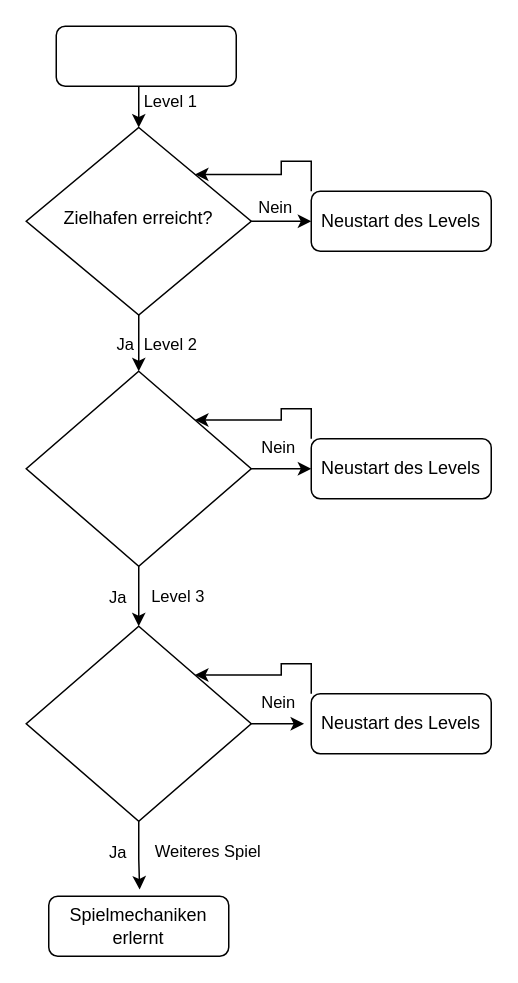
Image size: 518x983. Some labels were removed from this diagram. The box of each missing label's shape, as (x1, y1, x2, y2) in pixels:
Bedingung erfüllt und Zielhafen erreicht?: (25, 370, 251, 566)
Schleife gefahren, Bedingung erfüllt und Zielhafen erreicht?: (25, 625, 251, 821)
Spielstart: (55, 25, 236, 86)
